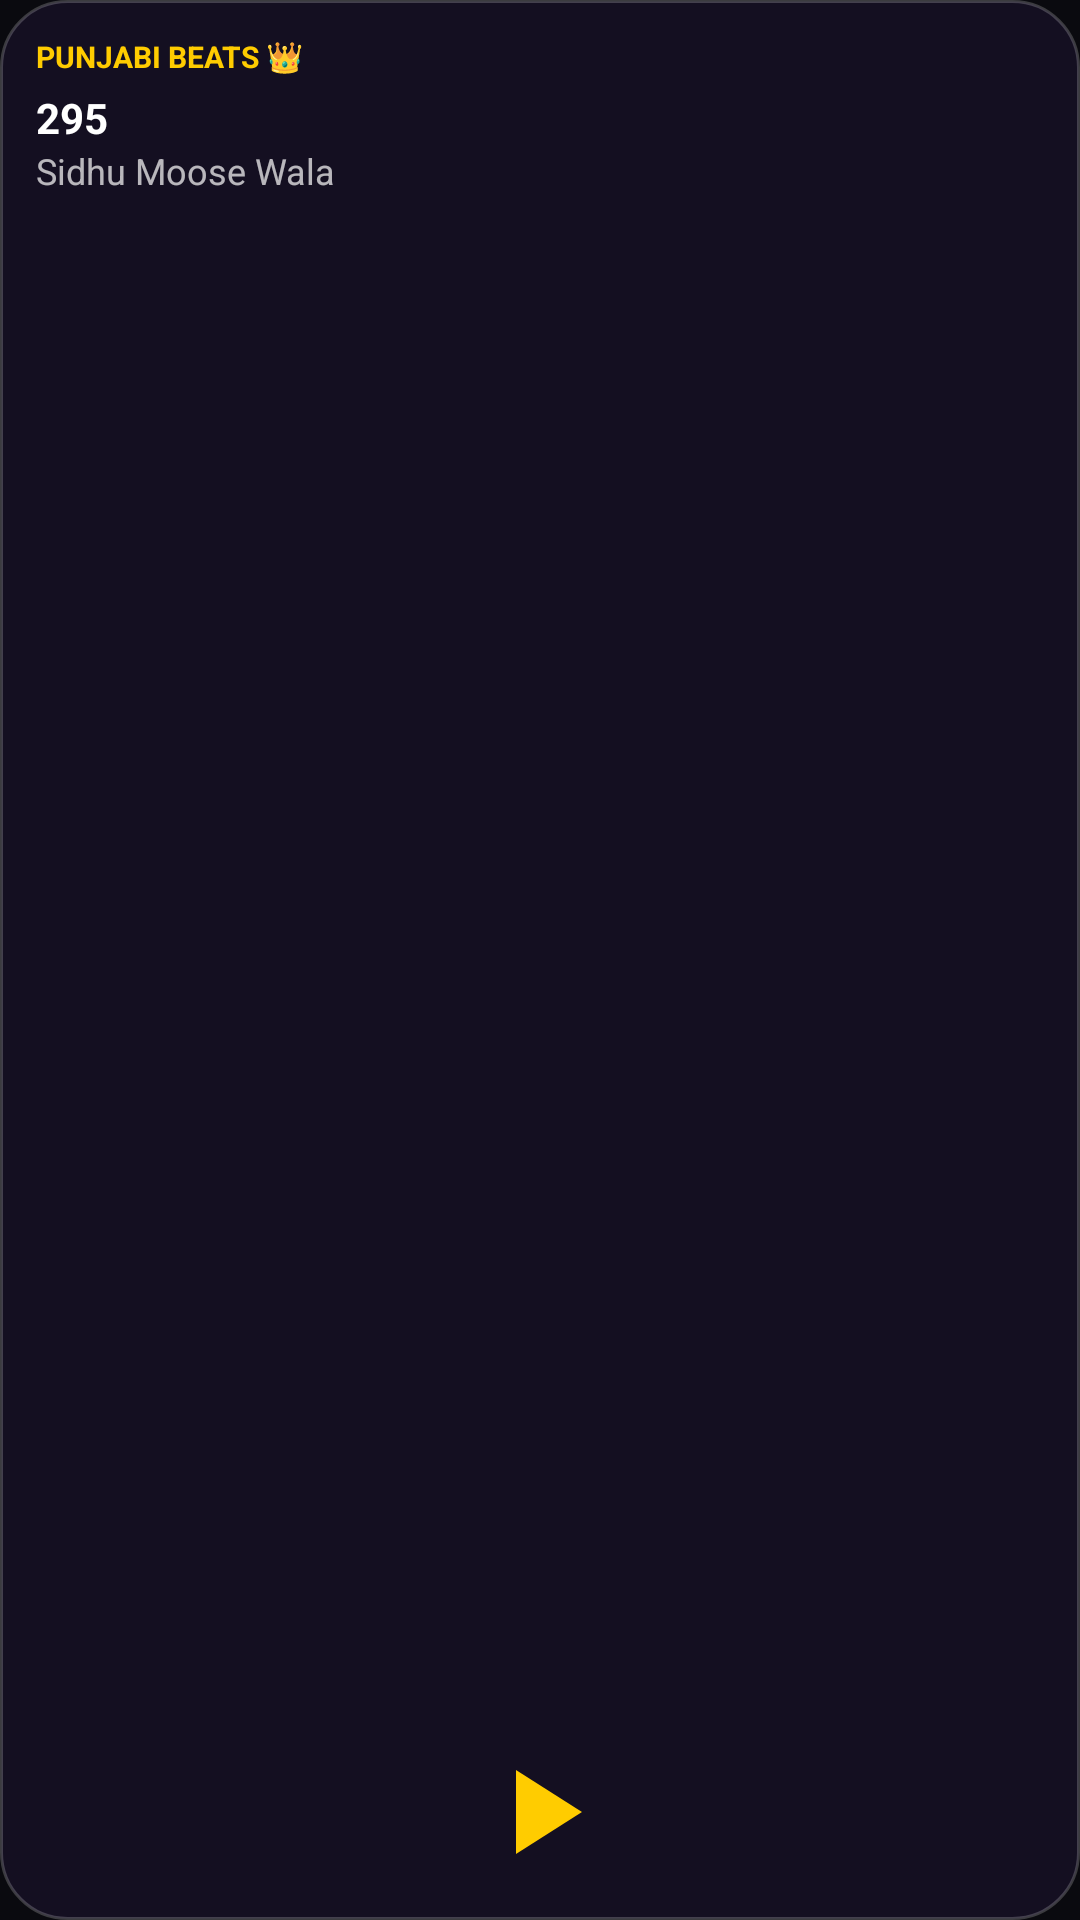

Locate icon controls on the screen. Image size 1080px x 1920px, boxes as {"left": x1, "top": y1, "right": x2, "bottom": y2}.
Play or Pause: {"left": 516, "top": 1770, "right": 582, "bottom": 1854}
